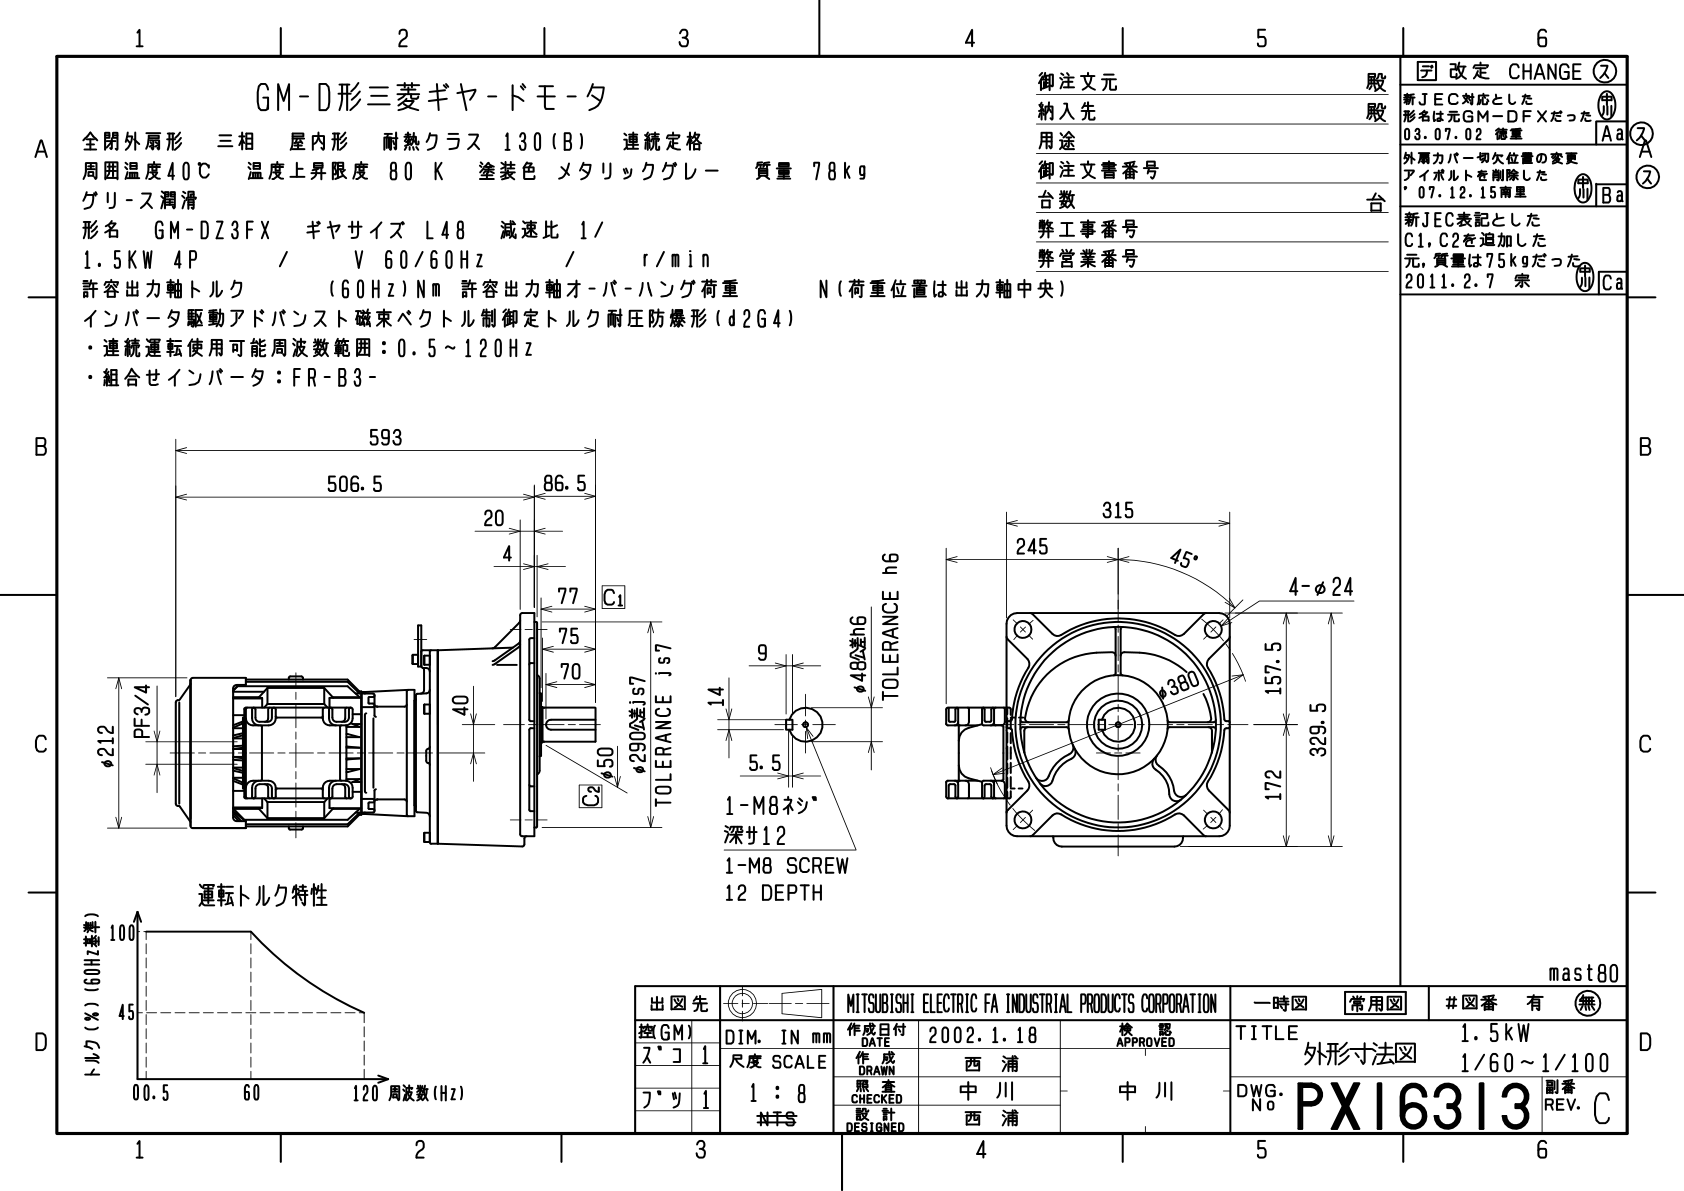GM_D_制御屋内_三相_フランジ: (70, 406, 1385, 965)
